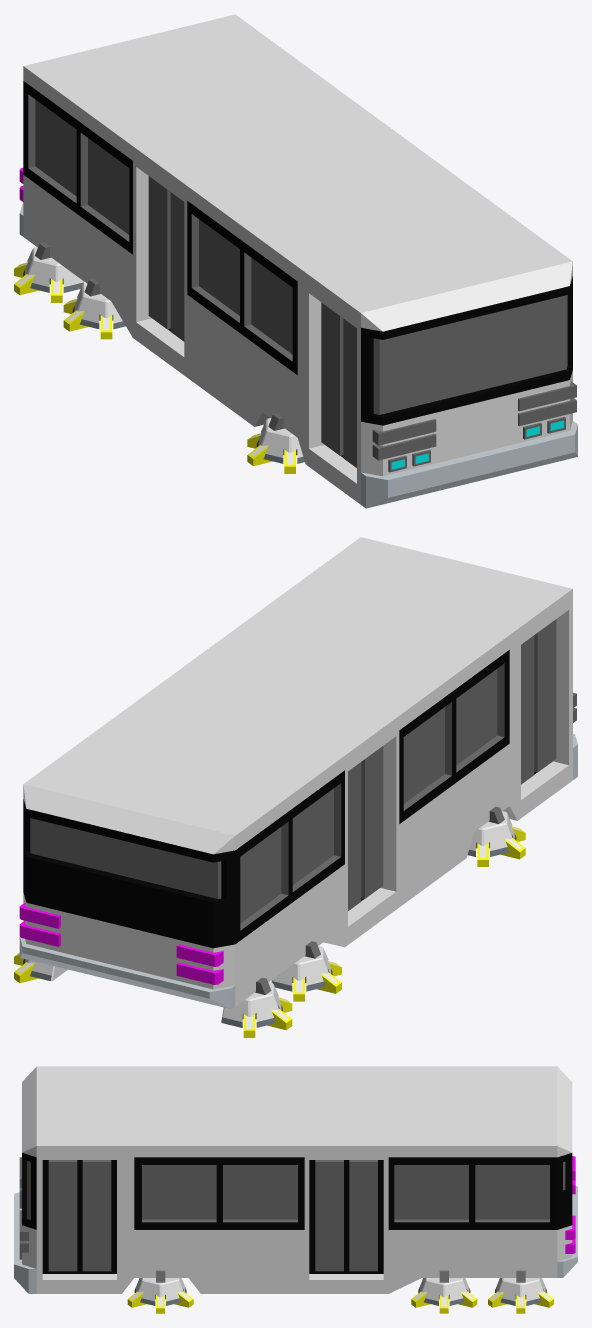
Rendered from vehicle_bus_hover.fbx.
The picture shows the model from 3 angles, top to bottom: view 1: azimuth 30°, elevation 25°; view 2: azimuth 150°, elevation 25°; view 3: azimuth 270°, elevation 25°; orthographic projection. The views are drawn at different scales.
Visible parts, largest first — view 1: half2, half1, doors2, doors1, front_grill (×2), hoverjet_base3, hoverjet_base2, hoverjet_base1, hoverjet_rockets2, hoverjet_rockets1, hoverjet_rockets3; view 2: half2, half1, doors1, doors2, taillights1 (×2), hoverjet_base3, hoverjet_base2, hoverjet_base1, hoverjet_rockets3, hoverjet_rockets2, hoverjet_rockets1; view 3: half1, half2, doors1, doors2, hoverjet_base3, hoverjet_base2, hoverjet_base1, hoverjet_rockets2, hoverjet_rockets3, hoverjet_rockets1.
Boxes of the visible parts, bbox=[...] form: half2: bbox=[19, 40, 481, 508]; half1: bbox=[129, 14, 577, 482]; doors2: bbox=[148, 176, 184, 341]; doors1: bbox=[321, 302, 356, 467]; front_grill (×2): bbox=[372, 381, 576, 460]; hoverjet_base3: bbox=[23, 247, 84, 292]; hoverjet_base2: bbox=[72, 283, 125, 329]; hoverjet_base1: bbox=[256, 418, 304, 463]; hoverjet_rockets2: bbox=[63, 298, 112, 339]; hoverjet_rockets1: bbox=[247, 433, 295, 473]; hoverjet_rockets3: bbox=[14, 262, 62, 302]; half2: bbox=[116, 563, 577, 1009]; half1: bbox=[19, 537, 466, 983]; doors1: bbox=[521, 619, 556, 784]; doors2: bbox=[348, 746, 383, 910]; taillights1 (×2): bbox=[19, 903, 223, 984]; hoverjet_base3: bbox=[221, 982, 282, 1027]; hoverjet_base2: bbox=[271, 946, 332, 991]; hoverjet_base1: bbox=[467, 811, 516, 856]; hoverjet_rockets3: bbox=[243, 997, 292, 1037]; hoverjet_rockets2: bbox=[293, 961, 341, 1001]; hoverjet_rockets1: bbox=[477, 826, 525, 866]; half1: bbox=[14, 1106, 577, 1293]; half2: bbox=[14, 1066, 577, 1229]; doors1: bbox=[48, 1160, 111, 1271]; doors2: bbox=[315, 1160, 377, 1271]; hoverjet_base3: bbox=[495, 1278, 546, 1305]; hoverjet_base2: bbox=[418, 1278, 470, 1305]; hoverjet_base1: bbox=[134, 1278, 186, 1305]; hoverjet_rockets2: bbox=[411, 1291, 477, 1313]; hoverjet_rockets3: bbox=[488, 1291, 553, 1313]; hoverjet_rockets1: bbox=[127, 1291, 193, 1313].
Size of the model in its own units: 685 by 486 by 1591.
